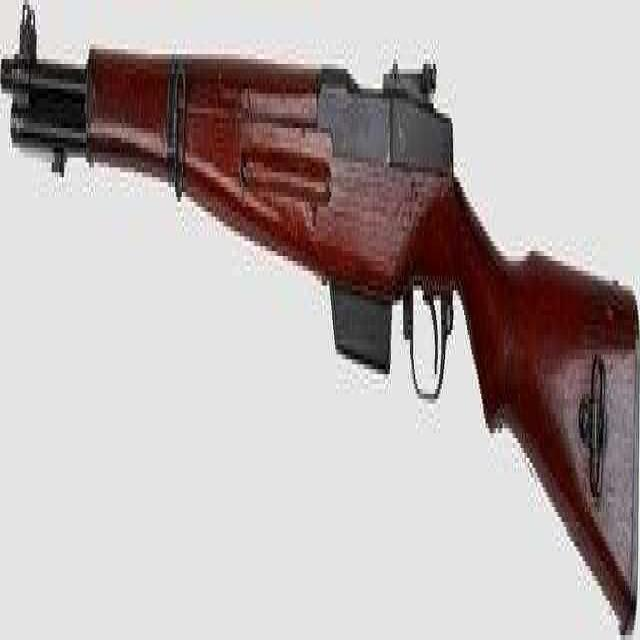heavyweapon: (1, 1, 640, 640)
